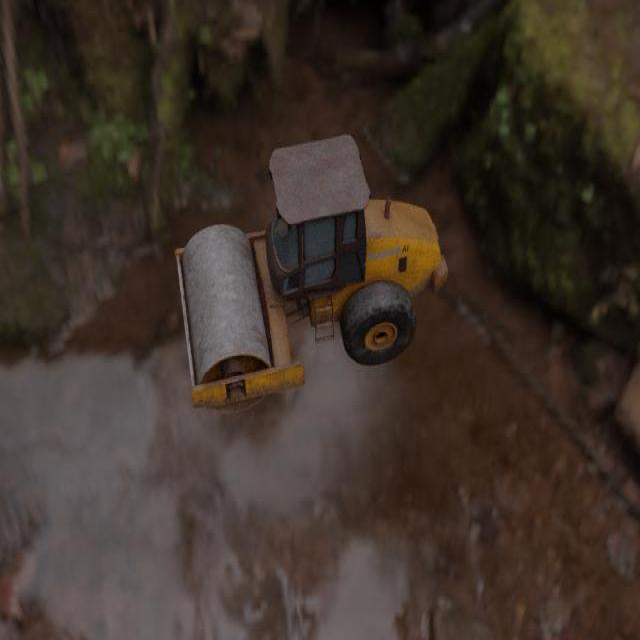Roller: (174, 134, 448, 414)
